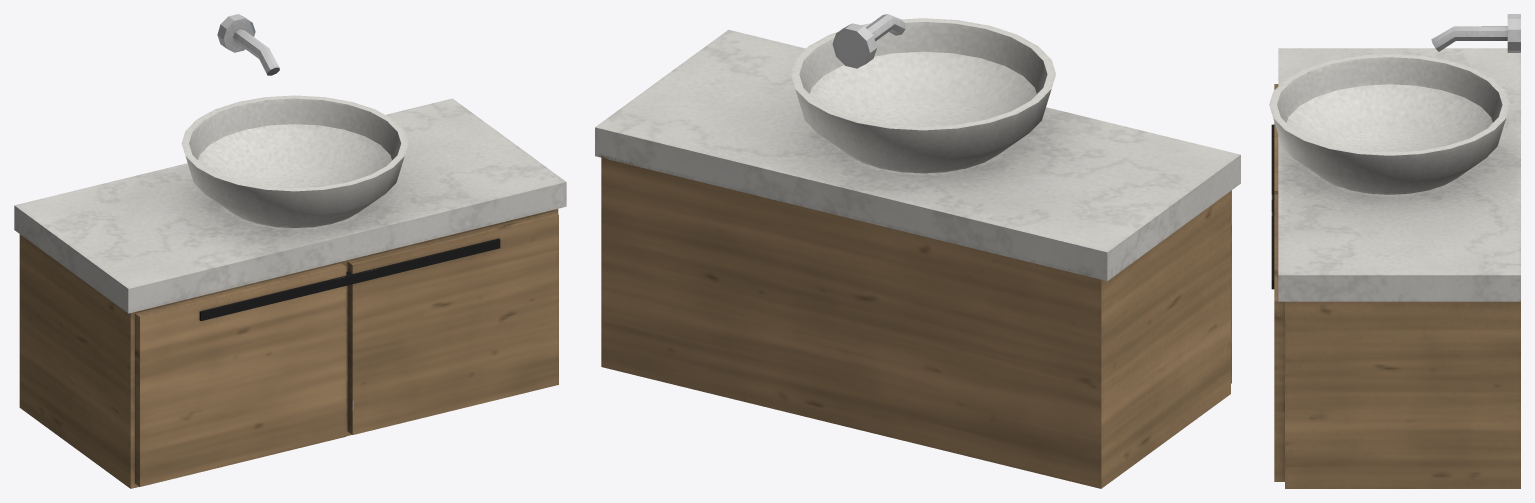
Rendered from H_Vanity.fbx.
3 views of the same model, side by side, from view 1: azimuth 30°, elevation 25°; view 2: azimuth 150°, elevation 25°; view 3: azimuth 270°, elevation 25° (orthographic). The views are drawn at different scales.
Visible parts, largest first — view 1: H_Vanity; view 2: H_Vanity; view 3: H_Vanity.
Boxes of the visible parts, x1,y1,x2,y2 form: H_Vanity: (14,14,566,488); H_Vanity: (595,14,1240,488); H_Vanity: (1269,14,1520,488).
Bounding box in the file's own units: 410 × 304 × 192.
Materials: 1 (1 with a texture image).
